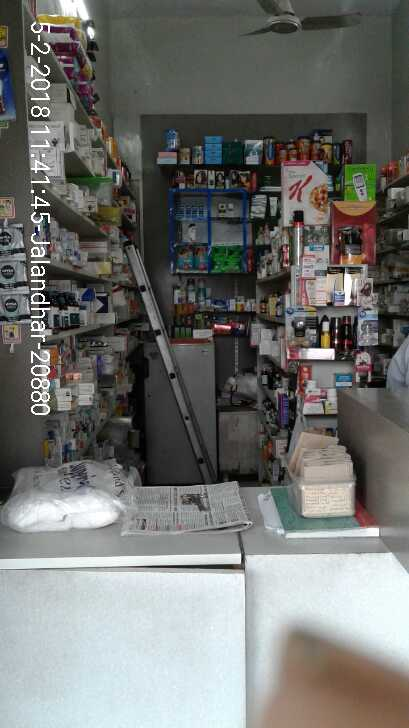vicks: (173, 202, 207, 220)
